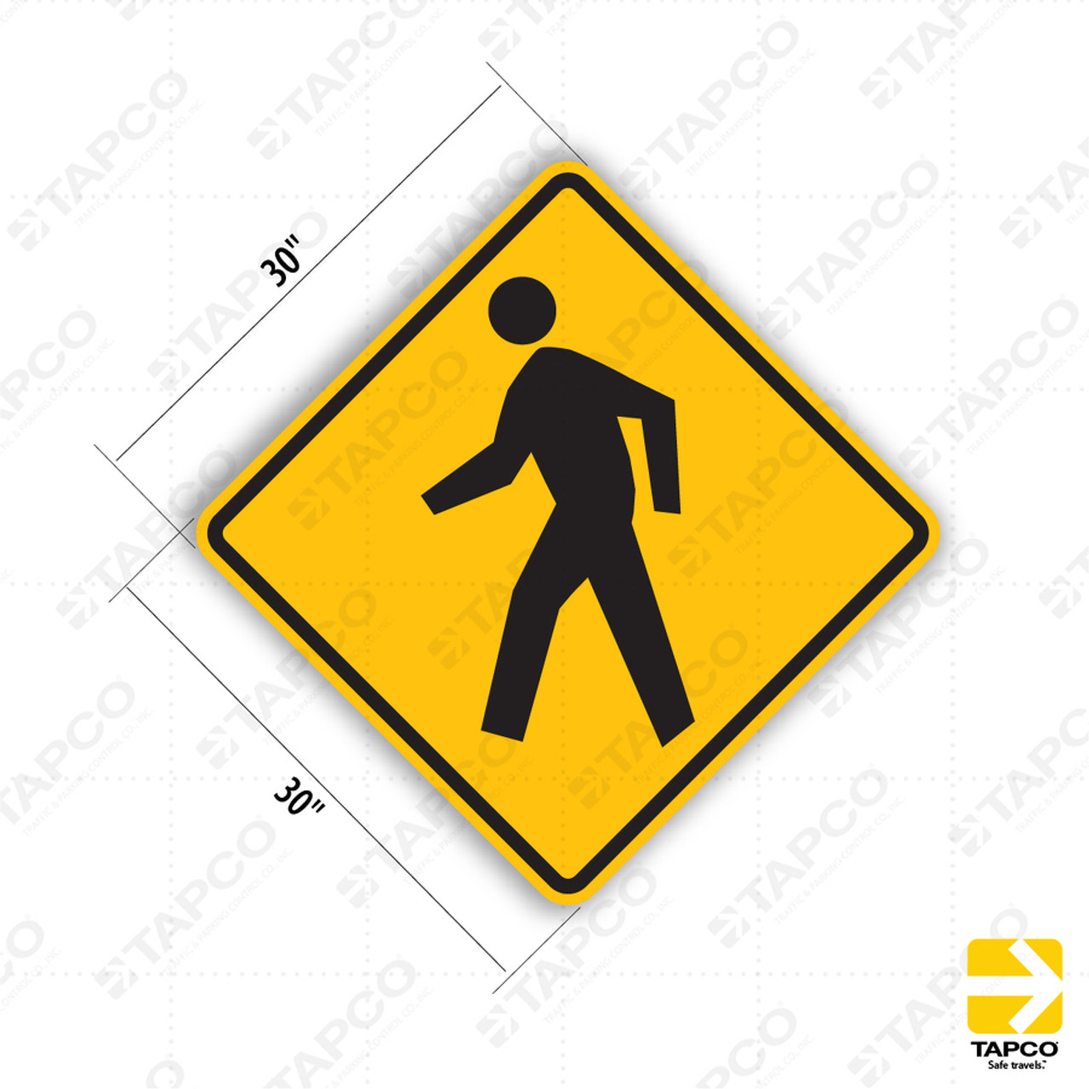CrossSign: (172, 162, 952, 909)
